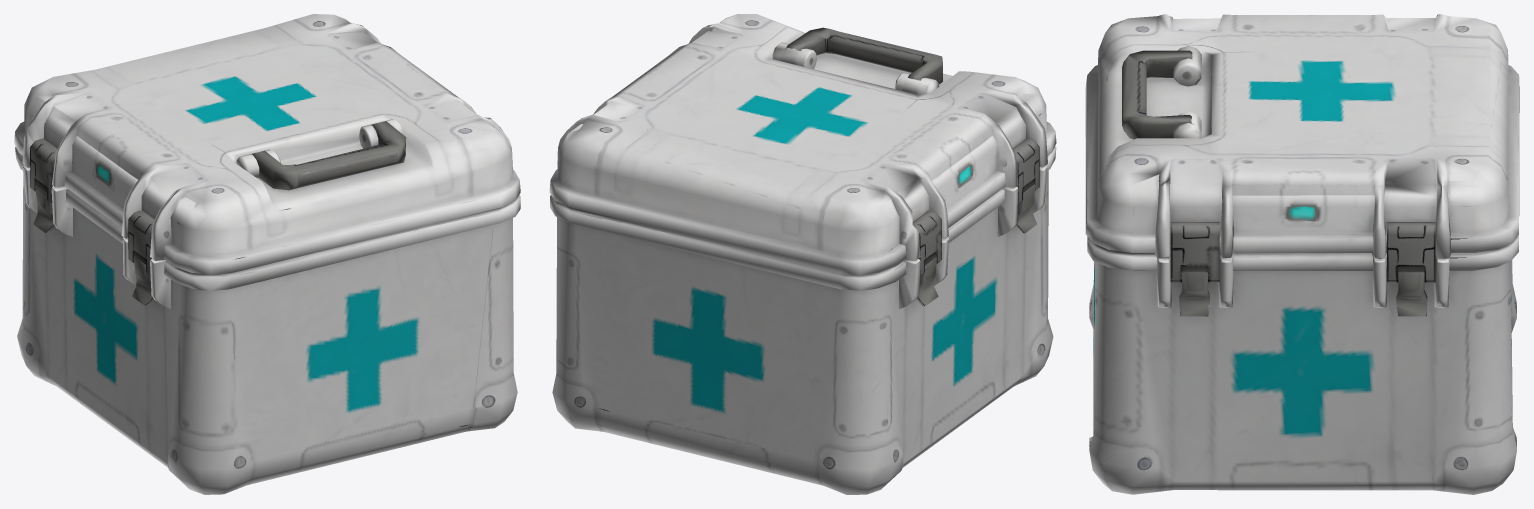
Rendered from pickup_medkit.glb.
The picture shows the model from 3 angles, left to right: view 1: azimuth 30°, elevation 25°; view 2: azimuth 150°, elevation 25°; view 3: azimuth 270°, elevation 25°; orthographic projection. The views are drawn at different scales.
Parts seen in each view (by area): view 1: geometry_0; view 2: geometry_0; view 3: geometry_0.
Boxes of the visible parts, left/top/right/bottom form: geometry_0: left=14, top=14, right=520, bottom=494; geometry_0: left=549, top=14, right=1056, bottom=494; geometry_0: left=1085, top=14, right=1519, bottom=494.
Size of the model in its own units: 0.9468 by 0.7578 by 0.9019.
Materials: 1 (1 with a texture image).
